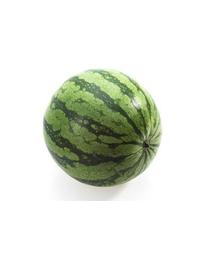watermelon: (42, 67, 162, 189)
